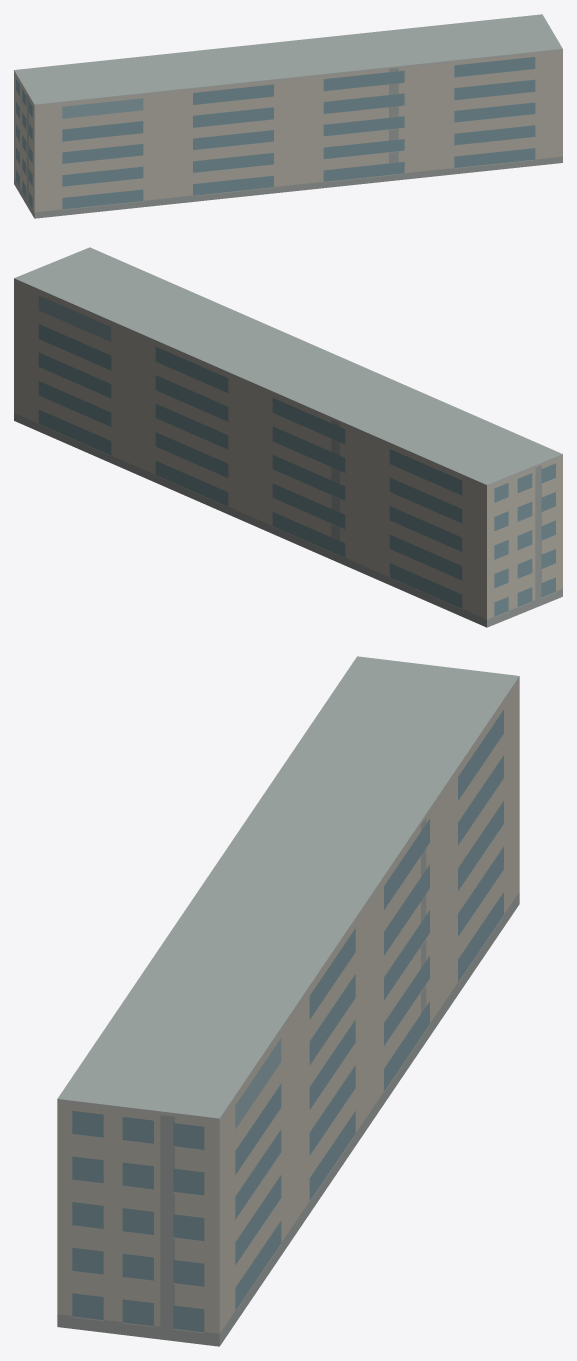
Rendered from residential-94db6f32-2032-4a35-bd49-087739b207b1.glb.
The picture shows the model from 3 angles, top to bottom: view 1: azimuth 30°, elevation 25°; view 2: azimuth 150°, elevation 25°; view 3: azimuth 270°, elevation 25°; orthographic projection. The views are drawn at different scales.
Parts seen in each view (by area): view 1: residential-94db6f32-2032-4a35-bd49-087739b207b1.tmp; view 2: residential-94db6f32-2032-4a35-bd49-087739b207b1.tmp; view 3: residential-94db6f32-2032-4a35-bd49-087739b207b1.tmp.
Part boxes in pixels (x1=…): residential-94db6f32-2032-4a35-bd49-087739b207b1.tmp: x1=14, y1=14, x2=562, y2=218; residential-94db6f32-2032-4a35-bd49-087739b207b1.tmp: x1=14, y1=247, x2=562, y2=627; residential-94db6f32-2032-4a35-bd49-087739b207b1.tmp: x1=57, y1=656, x2=519, y2=1346.
Size of the model in its own units: 66.28 by 15.25 by 28.02.
